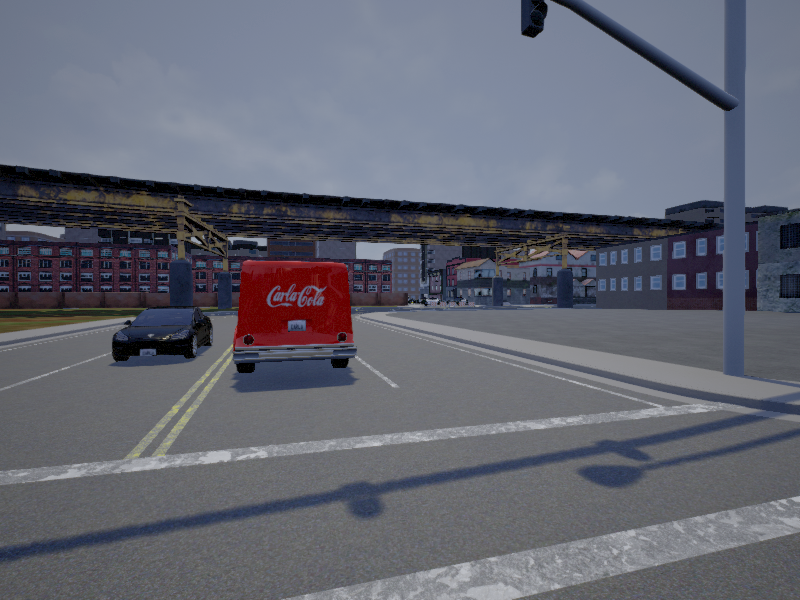Benign: (231, 257, 353, 372), (114, 309, 216, 358)
